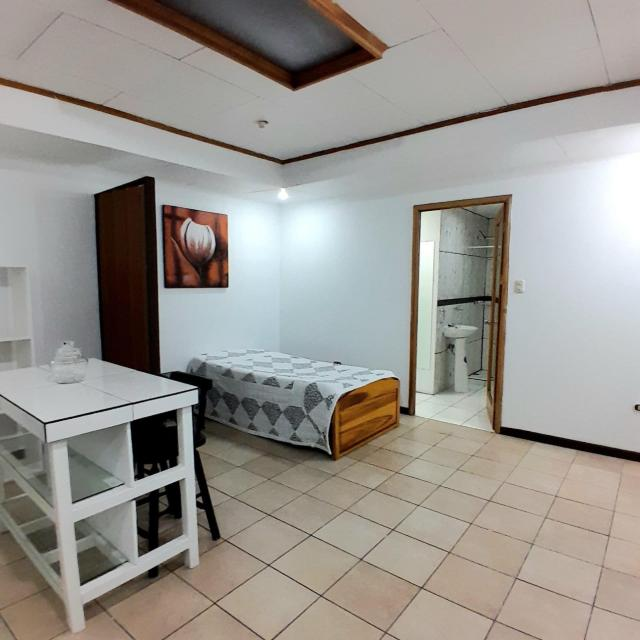OpenDoor: (404, 198, 513, 440)
